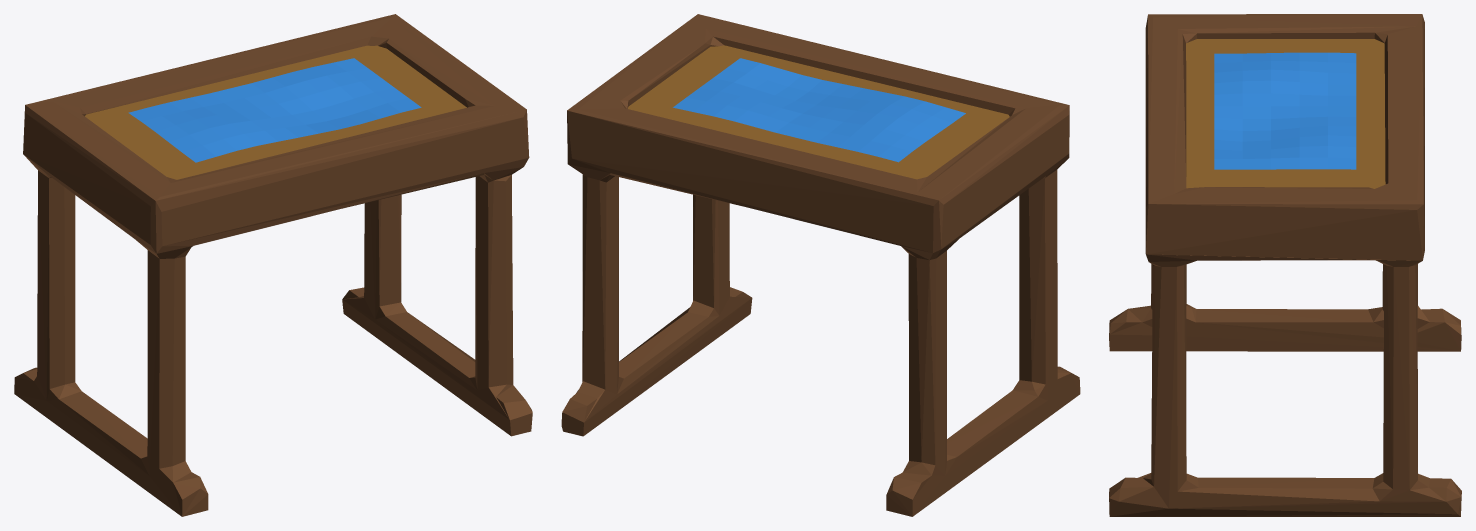
Rendered from Crafting Table.glb.
3 views of the same model, side by side, from view 1: azimuth 30°, elevation 25°; view 2: azimuth 150°, elevation 25°; view 3: azimuth 270°, elevation 25° (orthographic). The views are drawn at different scales.
Visible parts, largest first — view 1: Crafting Table; view 2: Crafting Table; view 3: Crafting Table.
Boxes of the visible parts, bbox=[...] form: Crafting Table: bbox=[14, 14, 532, 516]; Crafting Table: bbox=[561, 14, 1080, 516]; Crafting Table: bbox=[1109, 14, 1461, 516].
Bounding box in the file's own units: 5.63 × 4.4 × 4.38.
